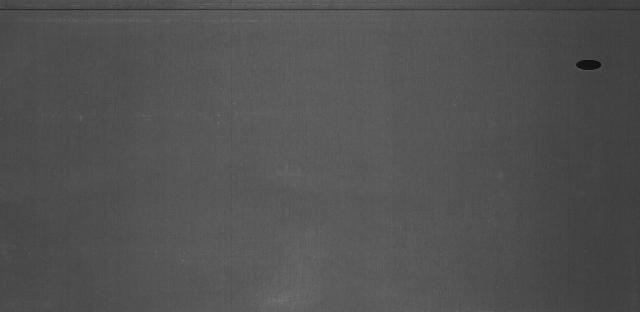punching_hole: (572, 55, 609, 73)
welding_line: (1, 1, 636, 21)
